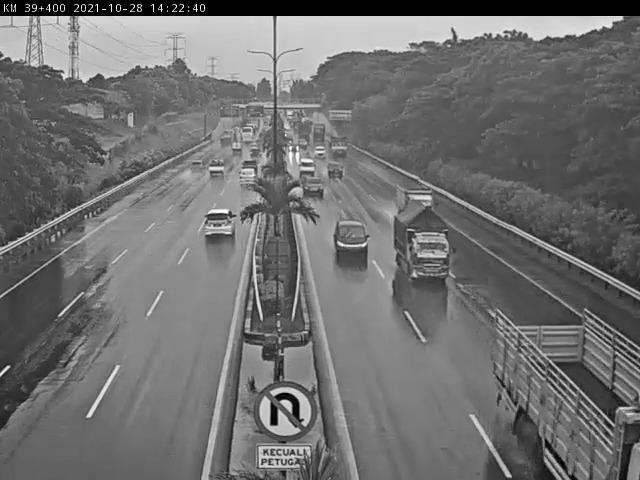car: (332, 218, 370, 258), (203, 208, 237, 240), (302, 175, 325, 198), (298, 157, 317, 178), (236, 167, 257, 184), (207, 157, 226, 174), (326, 161, 344, 177), (241, 158, 260, 173), (188, 159, 205, 174)
truck-l-: (494, 305, 640, 480)
truck-m-: (393, 203, 454, 283), (394, 182, 437, 213)
